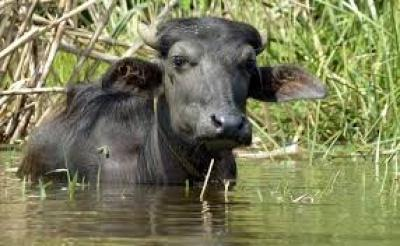buffalo: (15, 19, 328, 187)
